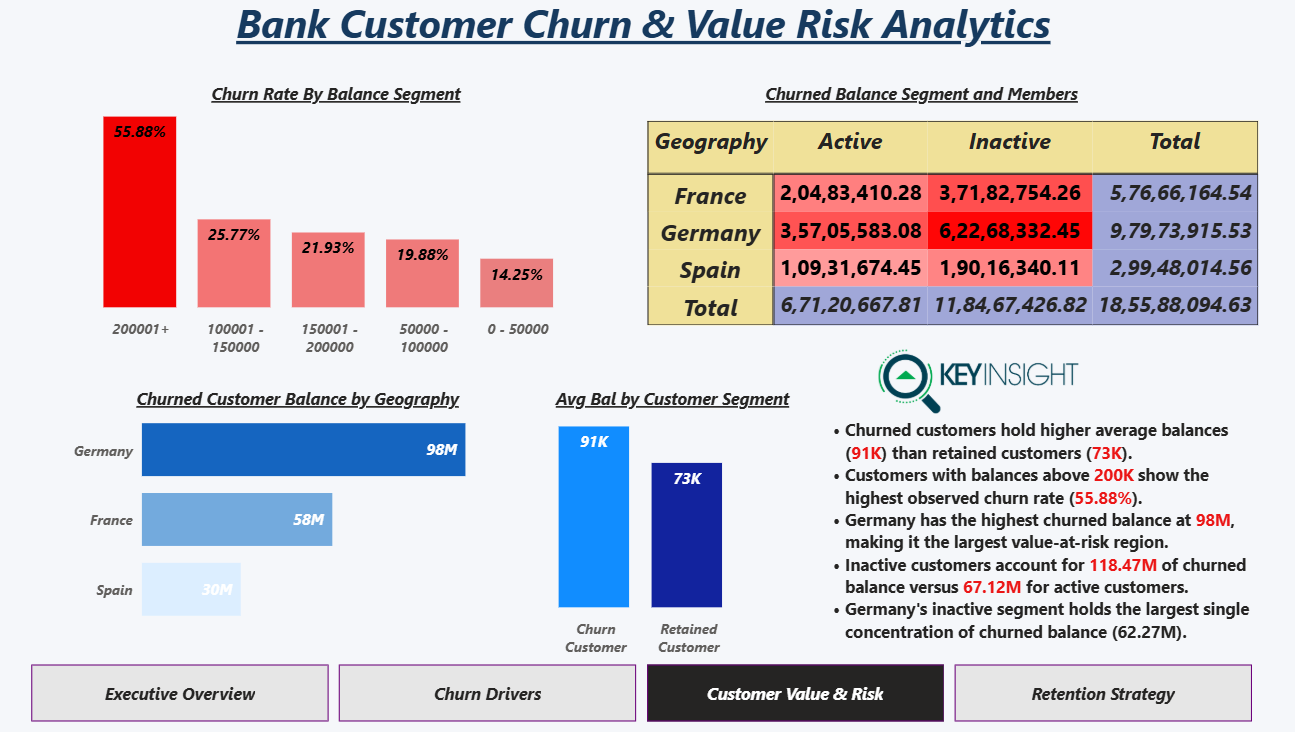

The dashboard page shown, as its layout file describes it:
{"tool":"powerbi","page":{"name":"Customer Value & Risk","canvas":[1280,720],"ordinal":2},"visuals":[{"type":"textbox","box":[233.8,0,812.4,61.7],"z":0},{"type":"columnChart","fields":{"Category":["Bank_Churn.churn customer status"],"Y":["Table.Avg churn customer bal","Table.Avg Stayed Customer Balance"]},"box":[472.9,388.5,333,260.6],"z":1000},{"type":"columnChart","fields":{"Category":["Bank_Churn.Balance Segment"],"Y":["Table.Churn Rate"]},"box":[63.9,92.9,533.2,266.6],"z":2000},{"type":"barChart","fields":{"Category":["Bank_Churn.Geography"],"Y":["Table.Churned customer Balance"]},"box":[84.5,376.4,395.7,260.6],"z":3000},{"type":"pivotTable","fields":{"Rows":["Bank_Churn.Geography"],"Columns":["Bank_Churn.member active/inactive"],"Values":["Table.Churned customer Balance"]},"box":[639.4,119.4,608,223.2],"z":4000},{"type":"textbox","box":[752.8,82,419.8,49.5],"z":5000},{"type":"textbox","box":[218.4,82,334.2,43.4],"z":6000},{"type":"textbox","box":[146,376.4,334.2,43.4],"z":7000},{"type":"textbox","box":[517.6,376.4,301.6,43.4],"z":8000},{"type":"pageNavigator","box":[49.5,649.1,1178.7,55.5],"z":9000},{"type":"textbox","box":[805.9,406.6,441.6,230.4],"z":10000},{"type":"image","box":[838.5,345,249.7,61.5],"z":11000}]}

Visuals, with their boxes in screenshot pixels (x1, y1, x2, y2), scaled from the page's 1280x720 canvas onto the 1295x732 screenshot:
textbox: [x1=237, y1=0, x2=1058, y2=63]
columnChart - Bank_Churn.churn customer status x Table.Avg churn customer bal: [x1=478, y1=395, x2=815, y2=660]
columnChart - Bank_Churn.Balance Segment x Table.Churn Rate: [x1=65, y1=94, x2=604, y2=365]
barChart - Bank_Churn.Geography x Table.Churned customer Balance: [x1=85, y1=383, x2=486, y2=648]
pivotTable - Bank_Churn.Geography x Bank_Churn.member active/inactive: [x1=647, y1=121, x2=1262, y2=348]
textbox: [x1=762, y1=83, x2=1186, y2=134]
textbox: [x1=221, y1=83, x2=559, y2=127]
textbox: [x1=148, y1=383, x2=486, y2=427]
textbox: [x1=524, y1=383, x2=829, y2=427]
pageNavigator: [x1=50, y1=660, x2=1243, y2=716]
textbox: [x1=815, y1=413, x2=1262, y2=648]
image: [x1=848, y1=351, x2=1101, y2=413]
